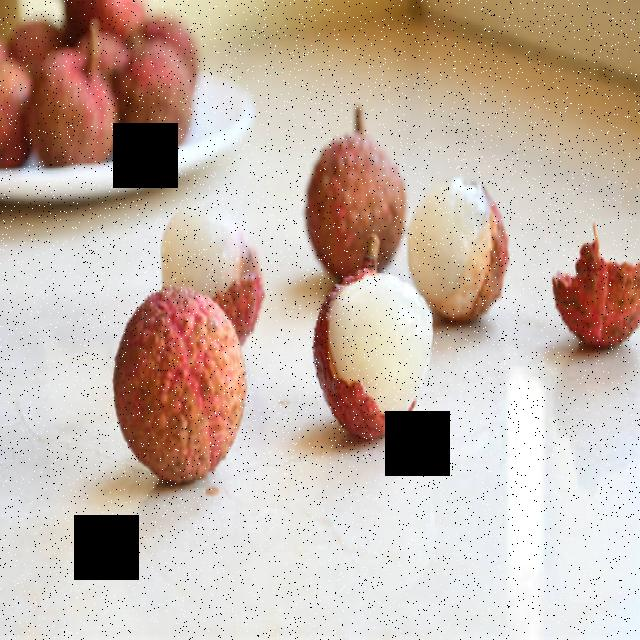lychee: (113, 166, 532, 489)
